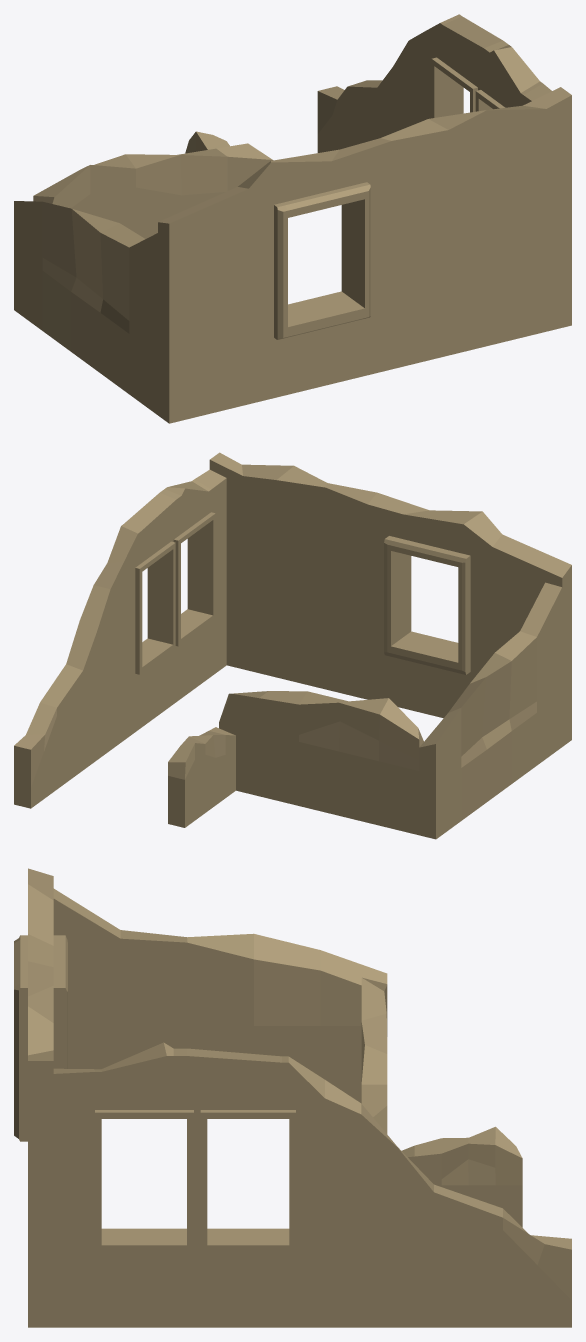
The model's file is building.fbx.
The picture shows the model from 3 angles, top to bottom: view 1: azimuth 30°, elevation 25°; view 2: azimuth 150°, elevation 25°; view 3: azimuth 270°, elevation 25°; orthographic projection. The views are drawn at different scales.
Visible parts, largest first — view 1: Cube; view 2: Cube; view 3: Cube.
Part boxes in pixels (x1,y1,x2,y2): Cube: (14,14,571,423); Cube: (14,452,571,839); Cube: (14,868,571,1327).
Bounding box in the file's own units: 463 × 257 × 473.
